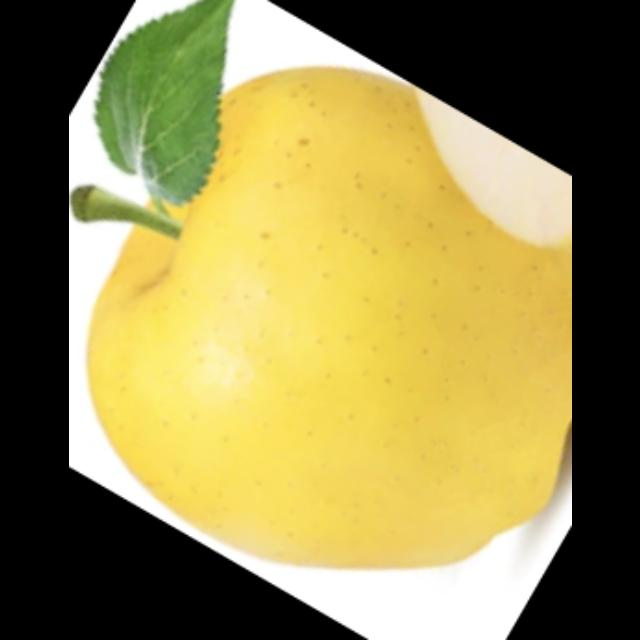Apel Segar: (87, 58, 571, 578)
